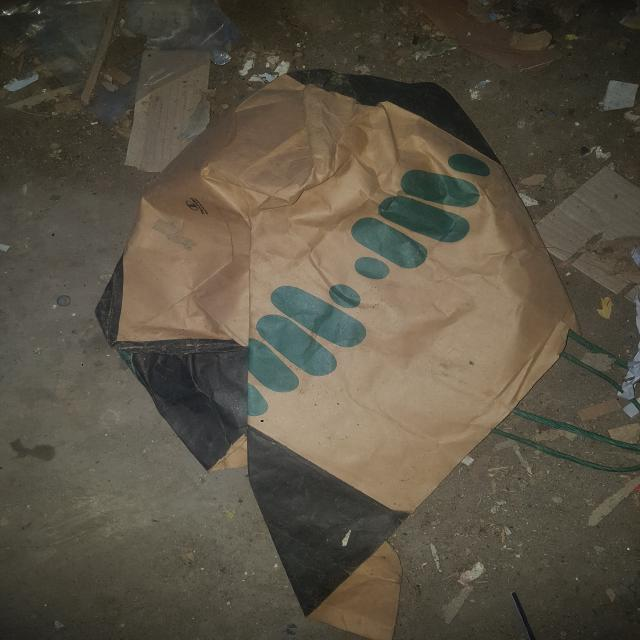electronic: (107, 73, 582, 515), (122, 48, 212, 173), (600, 79, 638, 111)
